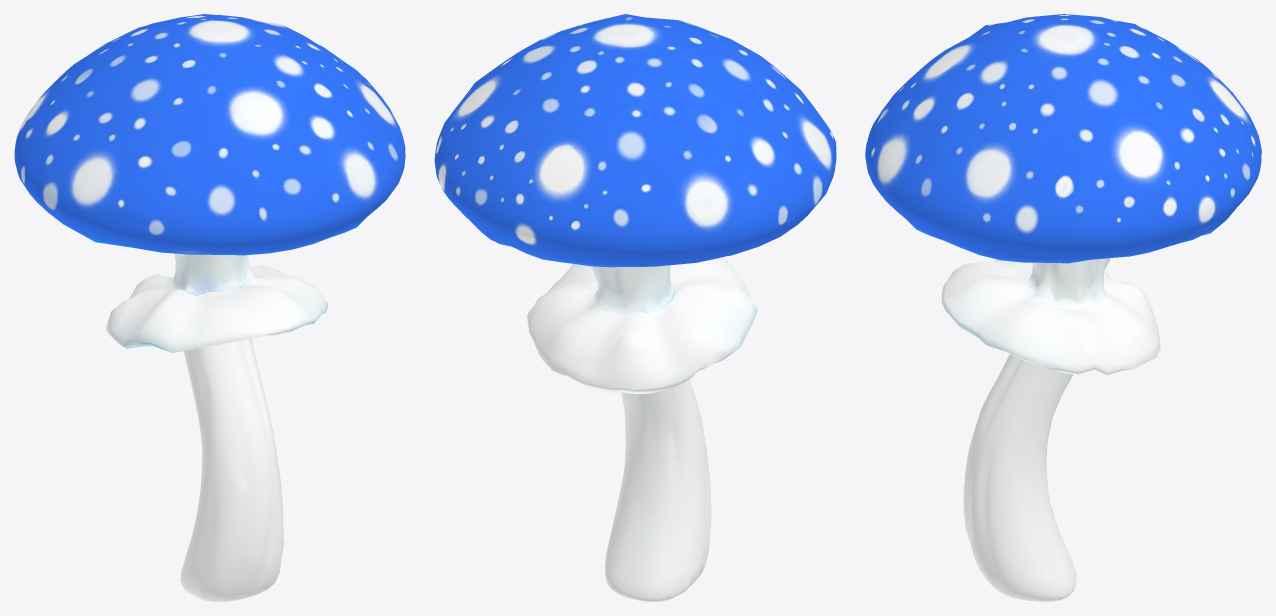
Rendered from glowing_mushroom.glb.
3 renders of one model, left to right at view 1: azimuth 30°, elevation 25°; view 2: azimuth 150°, elevation 25°; view 3: azimuth 270°, elevation 25°, orthographic. The views are drawn at different scales.
Parts seen in each view (by area): view 1: pCube1_standardSurface2_0; view 2: pCube1_standardSurface2_0; view 3: pCube1_standardSurface2_0.
Part boxes in pixels (x1,y1,x2,y2): pCube1_standardSurface2_0: (14,14,405,601); pCube1_standardSurface2_0: (434,14,836,601); pCube1_standardSurface2_0: (865,14,1261,601).
Size of the model in its own units: 2.04 by 3.17 by 2.04.
Materials: 1 (1 with a texture image).
